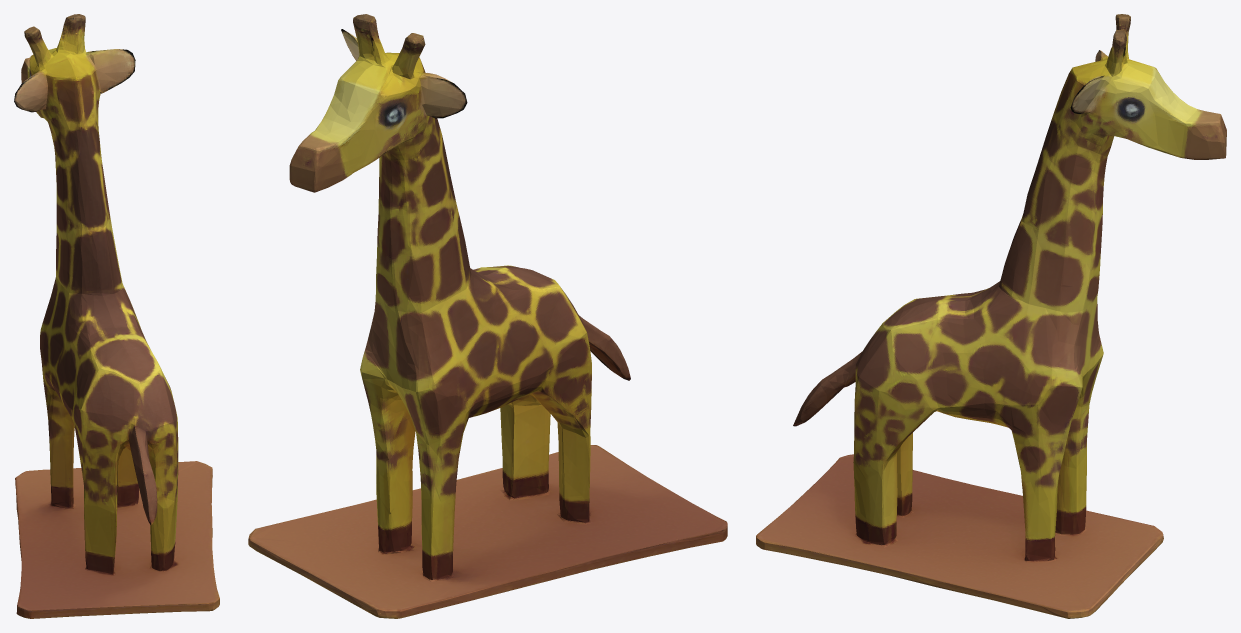
File: model-pick-3.glb
3 views of the same model, side by side, from view 1: azimuth 30°, elevation 25°; view 2: azimuth 150°, elevation 25°; view 3: azimuth 270°, elevation 25° (orthographic). The views are drawn at different scales.
Parts seen in each view (by area): view 1: geometry_0; view 2: geometry_0; view 3: geometry_0.
Part boxes in pixels (x1,y1,x2,y2): geometry_0: (14, 14, 219, 618); geometry_0: (248, 14, 727, 618); geometry_0: (756, 14, 1226, 618).
Bounding box in the file's own units: 0.3913 × 0.6086 × 0.4932.
Materials: 1 (1 with a texture image).
